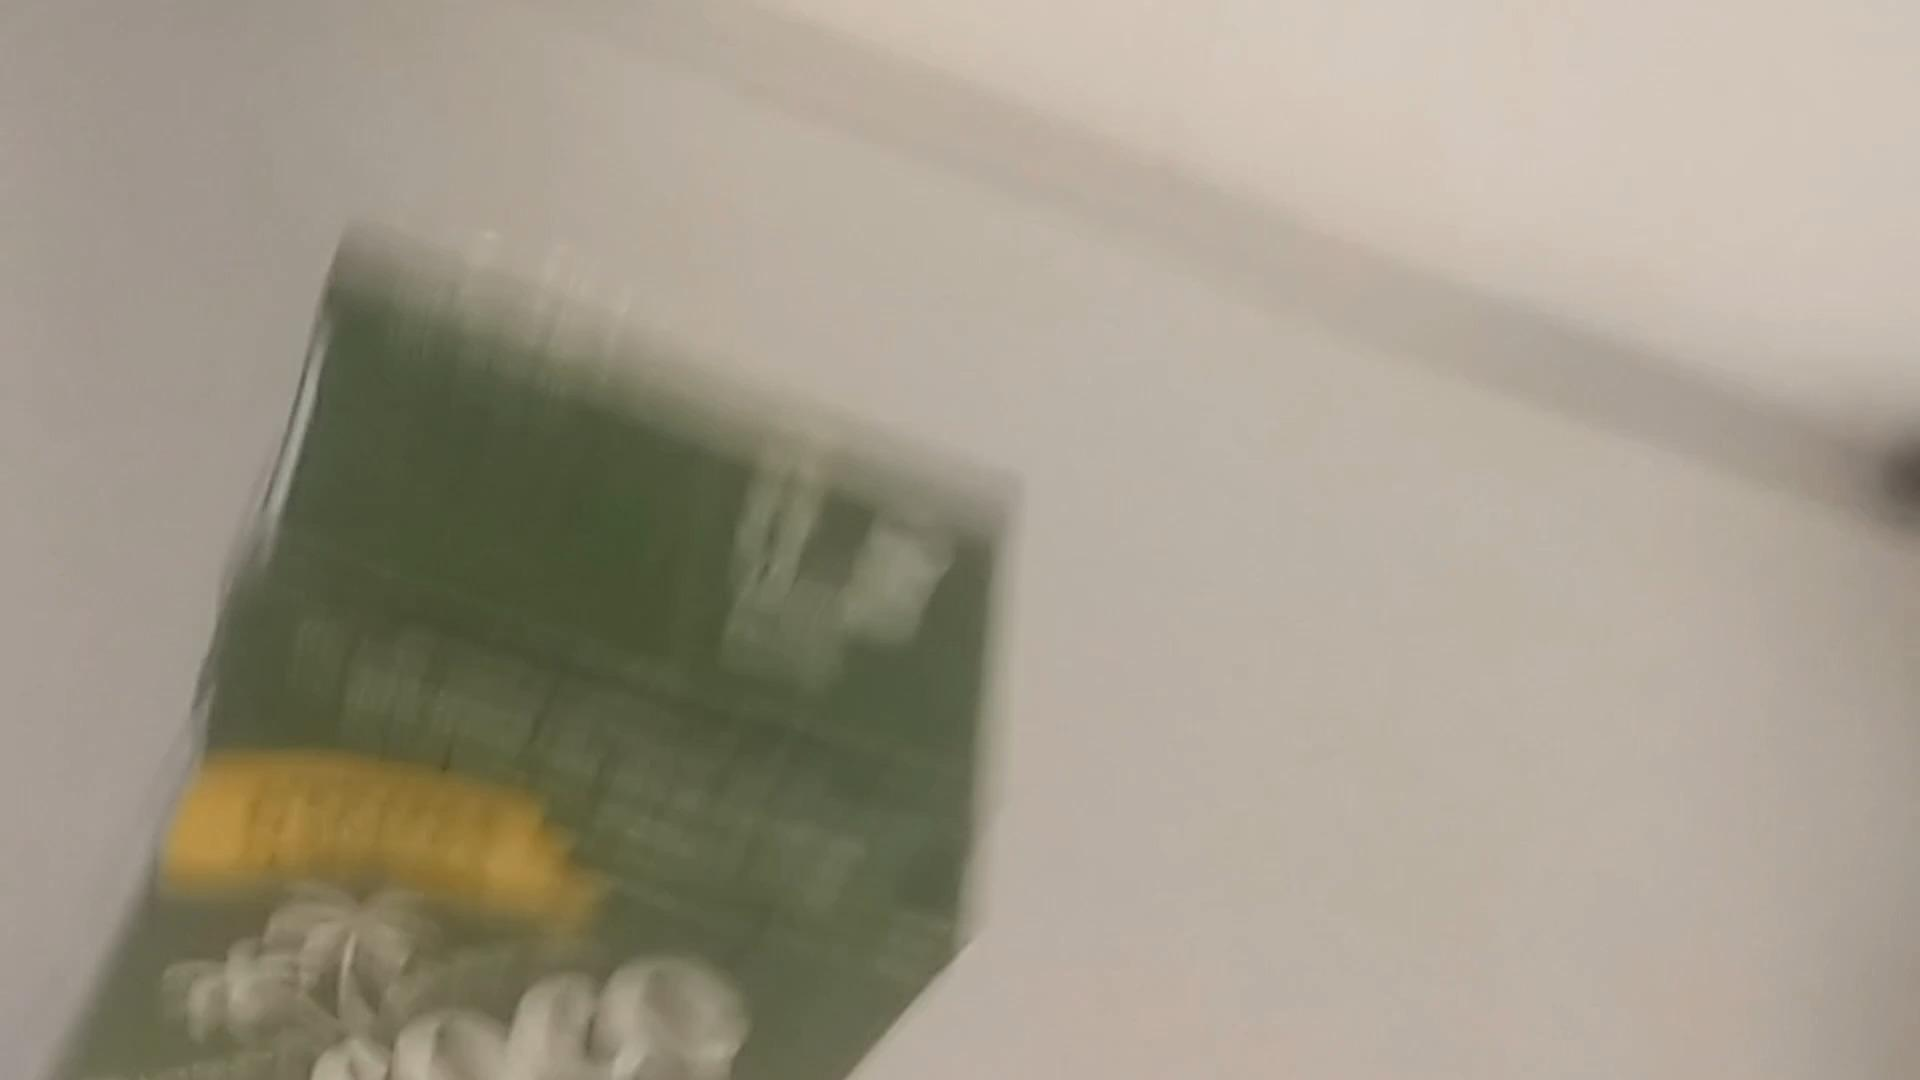coco: (58, 251, 1010, 1080)
